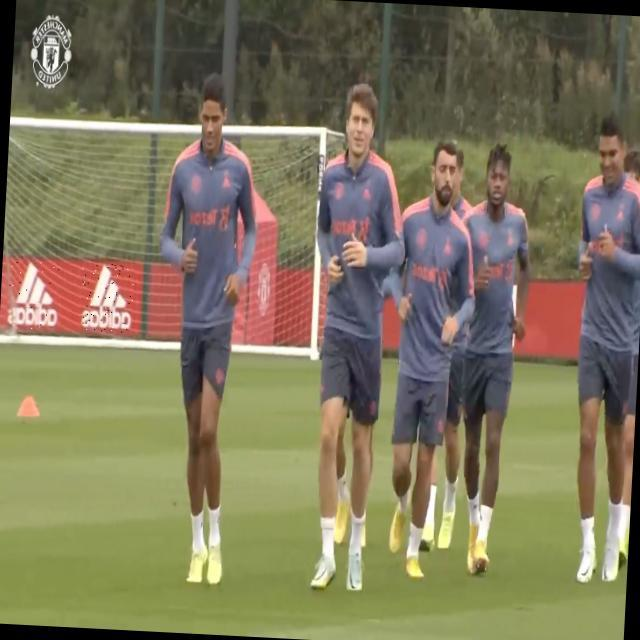Adidas: (80, 263, 135, 334), (8, 261, 60, 331)
